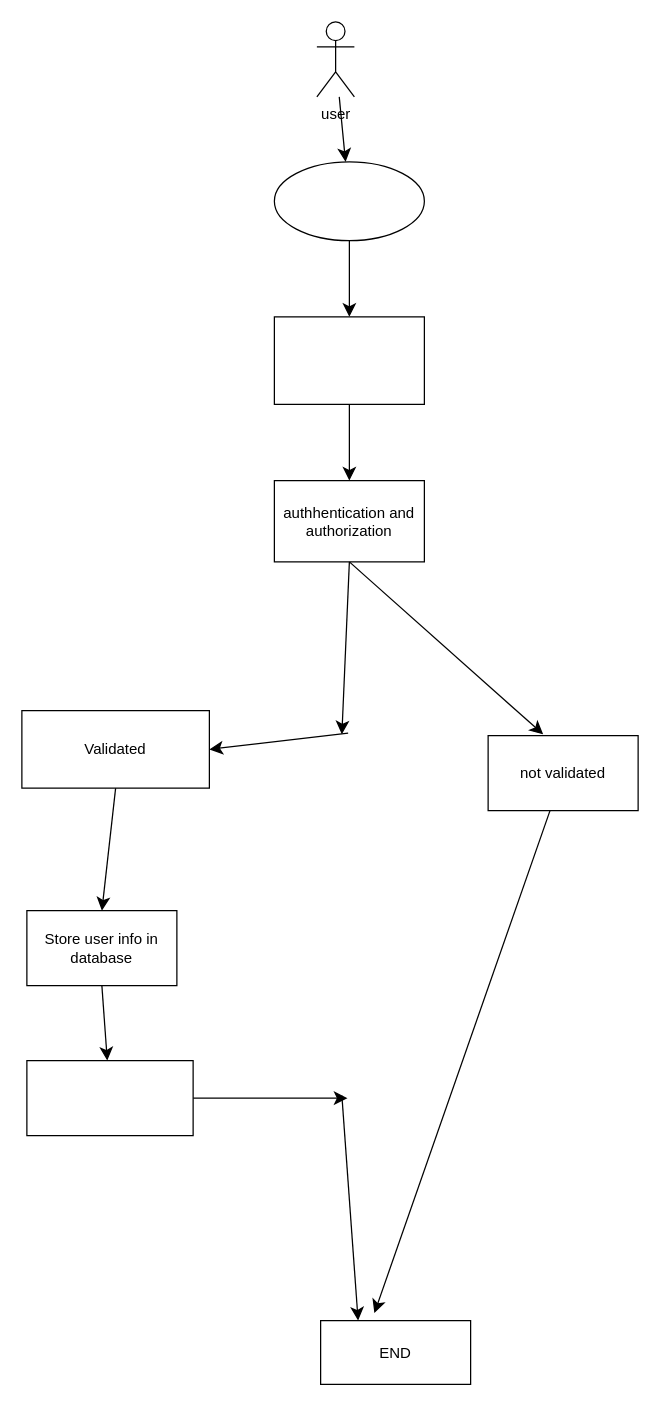
Image size: 660x1406. Some labels were removed from this diagram. Here are the shapes that lost their labels. From the top down, the box of each, then its label:
(273, 161, 424, 241): User Registration/Login
(273, 316, 424, 404): User enters registration or login info
(26, 1059, 193, 1136): send confirmation to user
